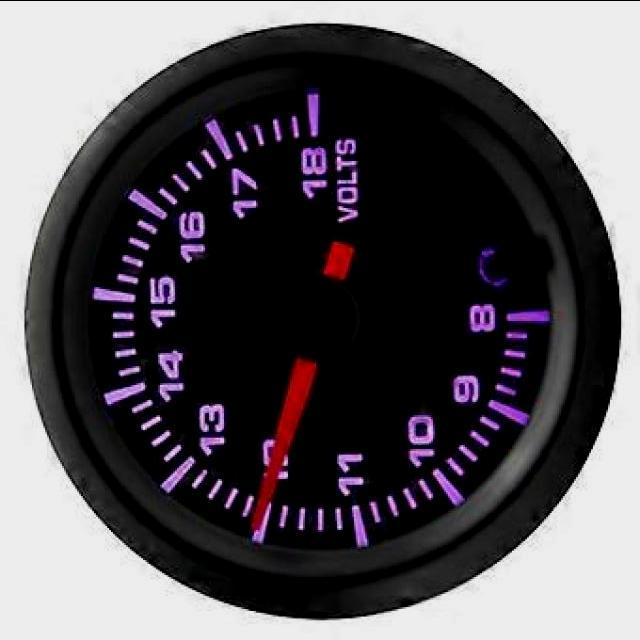Needle_Tip: (236, 501, 282, 543)
Needle_base: (268, 275, 355, 357)
max_value: (286, 138, 338, 193)
min_value: (454, 294, 520, 346)
